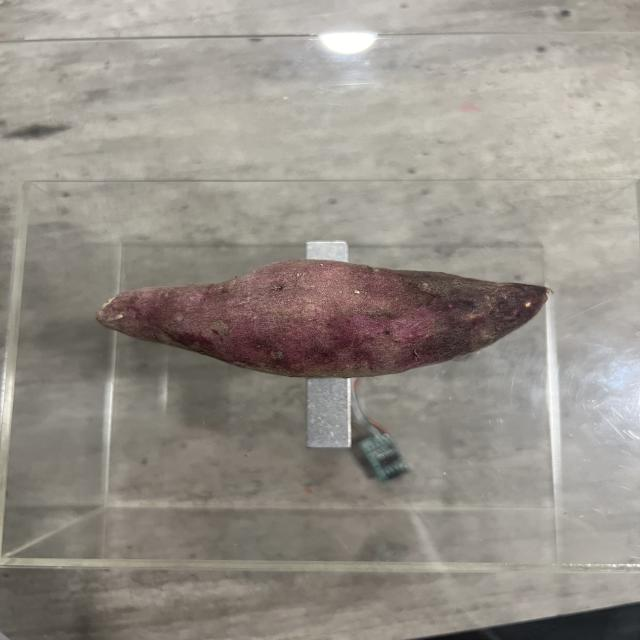sweet potato: (102, 254, 549, 378)
